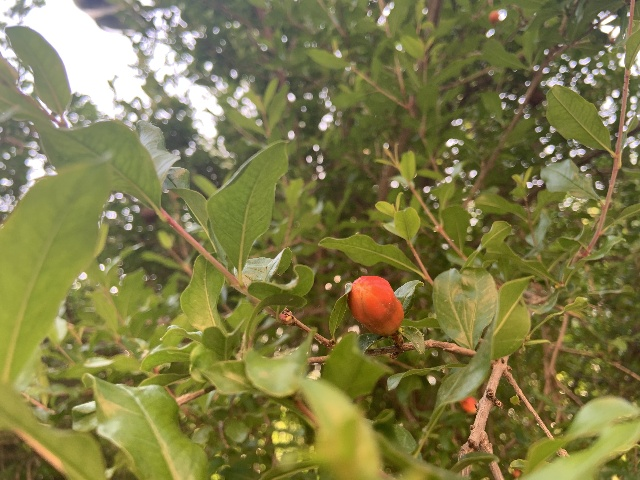bud: (348, 275, 403, 336)
